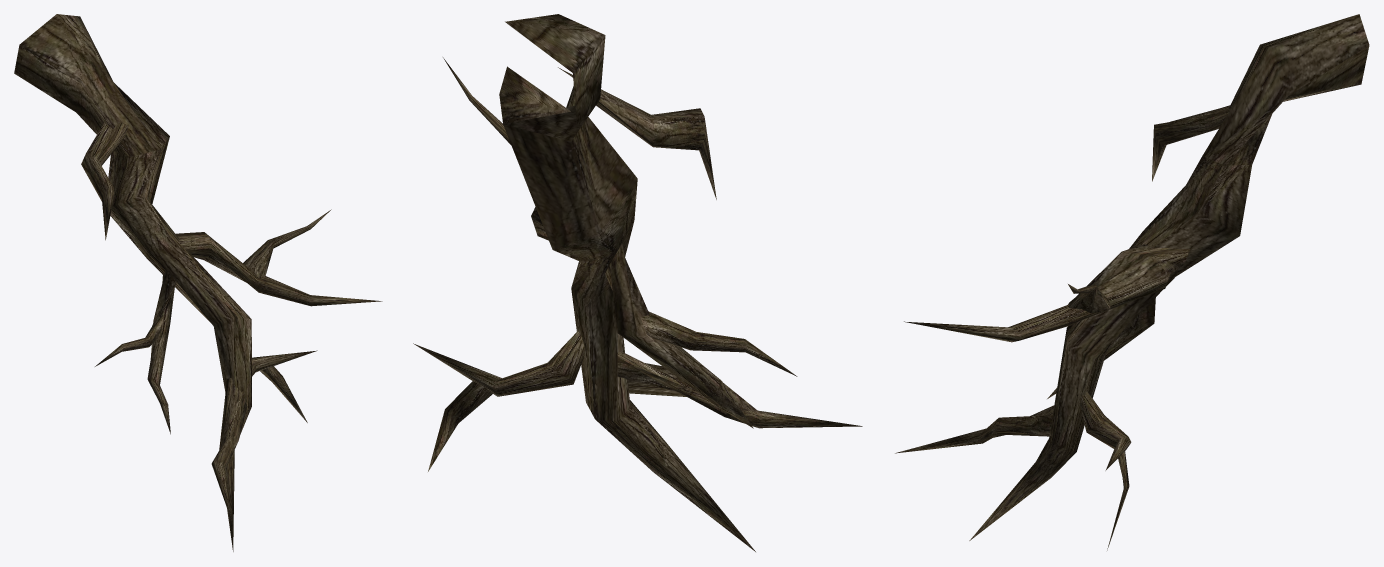
3 views of the same model, side by side, from view 1: azimuth 30°, elevation 25°; view 2: azimuth 150°, elevation 25°; view 3: azimuth 270°, elevation 25° (orthographic). The views are drawn at different scales.
Visible parts, largest first — view 1: model_Object33; view 2: model_Object33; view 3: model_Object33.
Boxes of the visible parts, bbox=[...] form: model_Object33: bbox=[14, 14, 382, 551]; model_Object33: bbox=[413, 14, 862, 551]; model_Object33: bbox=[895, 14, 1369, 550].
Bounding box in the file's own units: 2.39 × 4.37 × 3.64.
1 material, 1 textured.
